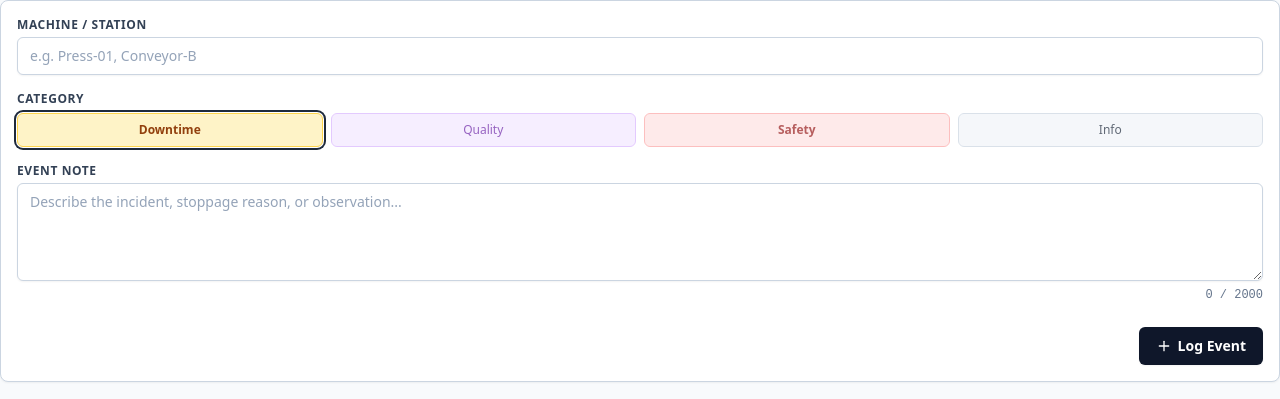
Scenario: EventForm Component › Character Counter & Limits › updates character counter synchronously as user types
The image size is (1280, 399).
In the text box labelled "Event Note": (640, 232) left=17, top=183, right=1263, bottom=281, type "Motor overheating"
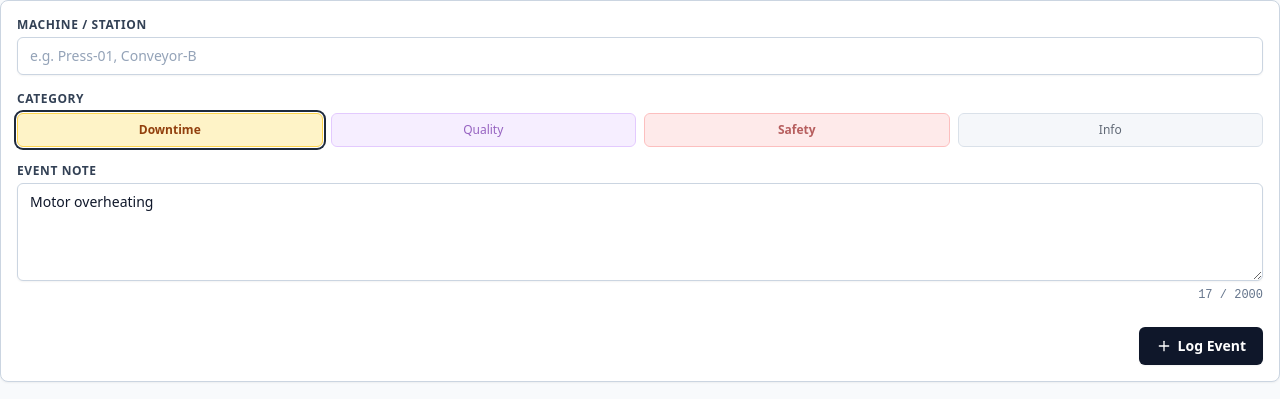
Result: the text with test id "char-counter" reads "17 / 2000" at left=1198, top=287, right=1263, bottom=303
